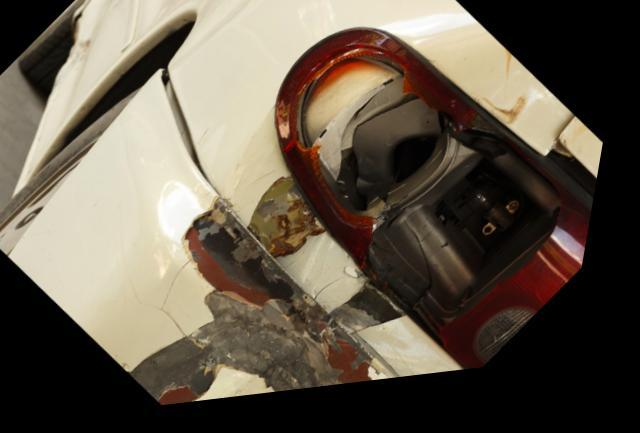dislocated part: (18, 69, 408, 411)
lamp broken: (276, 37, 602, 383)
